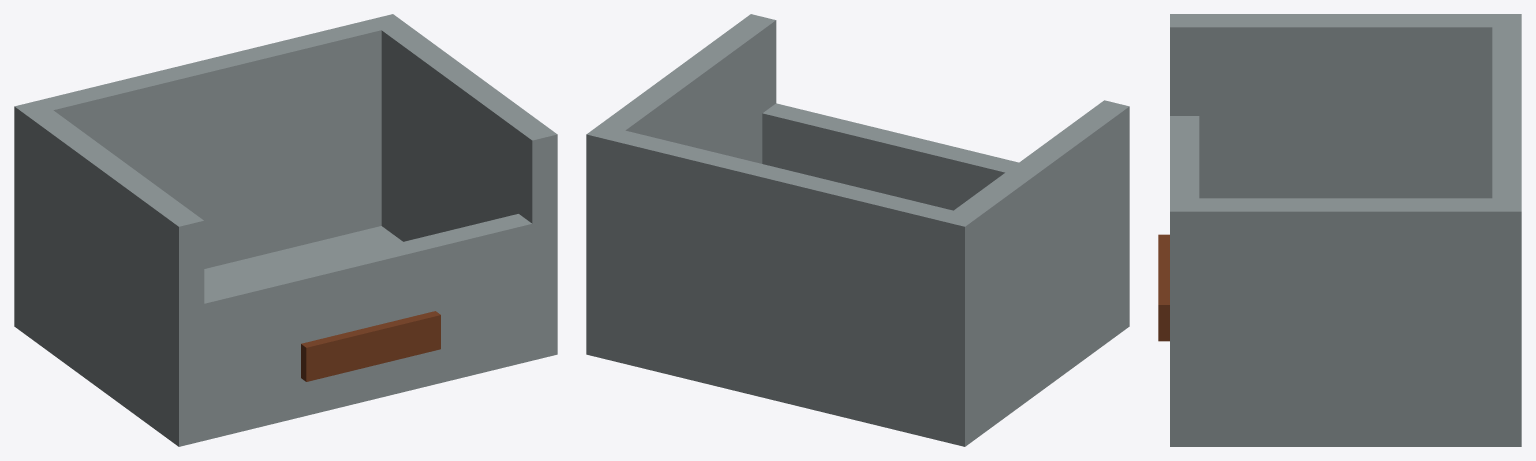
The model's file is FRM_020_E_LODs.fbx.
The picture shows the model from 3 angles, left to right: view 1: azimuth 30°, elevation 25°; view 2: azimuth 150°, elevation 25°; view 3: azimuth 270°, elevation 25°; orthographic projection. The views are drawn at different scales.
Visible parts, largest first — view 1: FRM_020_E_LOD0; view 2: FRM_020_E_LOD0; view 3: FRM_020_E_LOD0.
Boxes of the visible parts, x1,y1,x2,y2 form: FRM_020_E_LOD0: [14, 14, 557, 446]; FRM_020_E_LOD0: [586, 14, 1129, 446]; FRM_020_E_LOD0: [1158, 14, 1521, 446].
Size of what is drawn, in the model's own units: 0.45 by 0.25 by 0.35.
